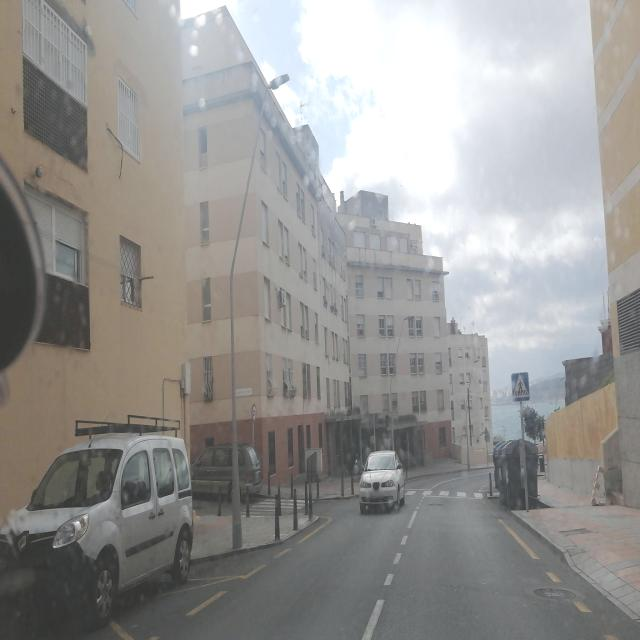car: (1, 427, 193, 627), (190, 442, 263, 504), (358, 449, 406, 514)
